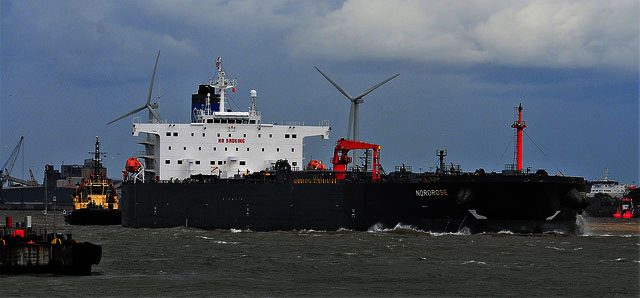tanker: (122, 61, 592, 235)
tug_boat: (62, 135, 119, 221)
